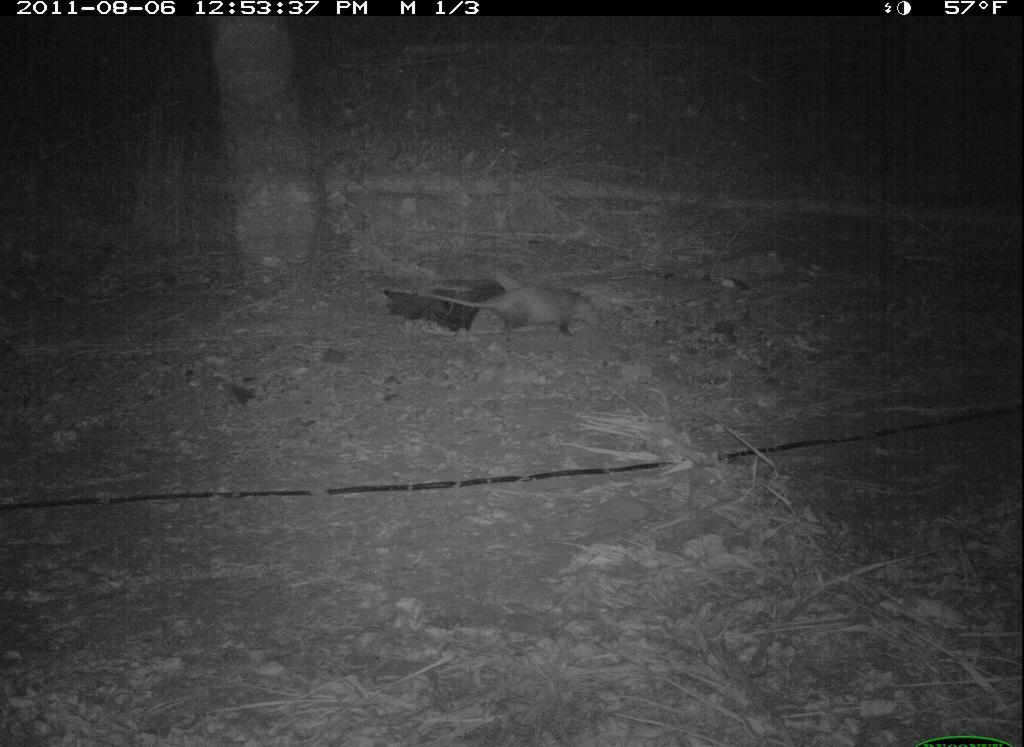opossum: (395, 265, 611, 347)
